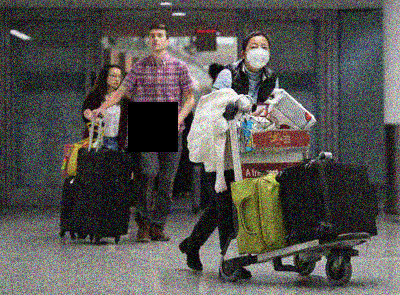with_mask: (246, 40, 271, 69)
without_mask: (149, 30, 168, 53), (106, 69, 124, 89)
